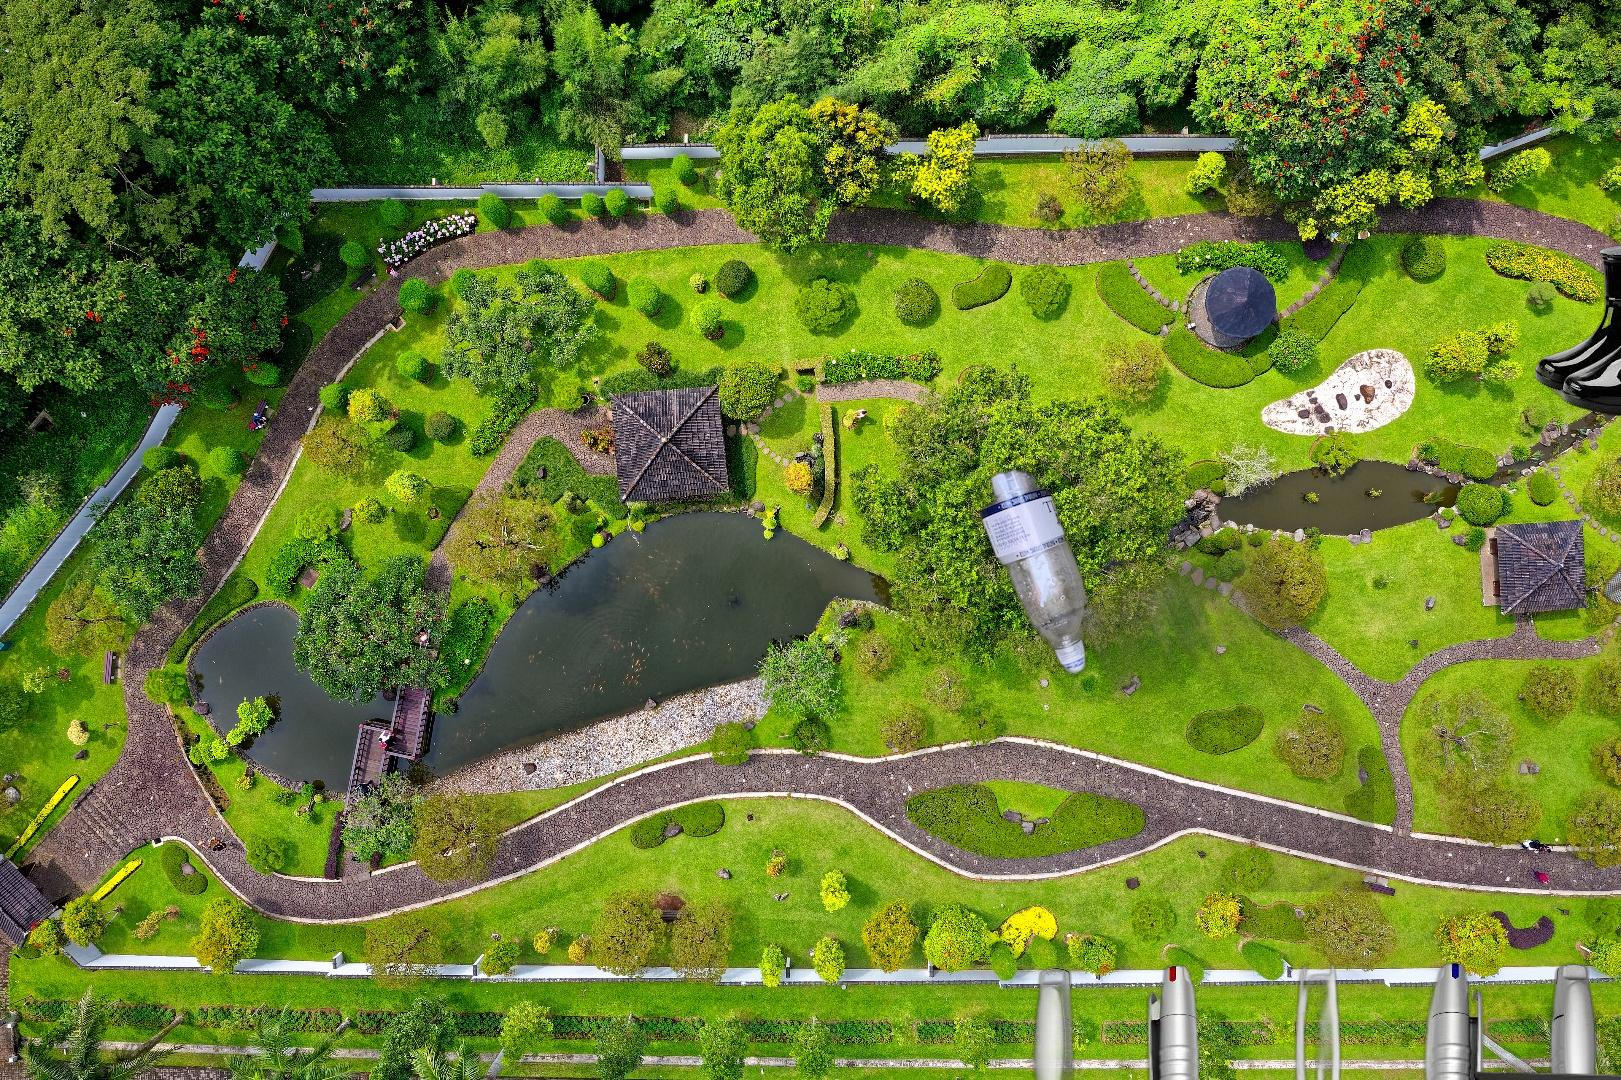battery: (1470, 1069, 1621, 1080)
clothes: (1599, 254, 1621, 634)
penholder: (1017, 958, 1617, 1080)
plastic-bottles: (967, 454, 1374, 892)
shoes: (1532, 239, 1621, 419)
